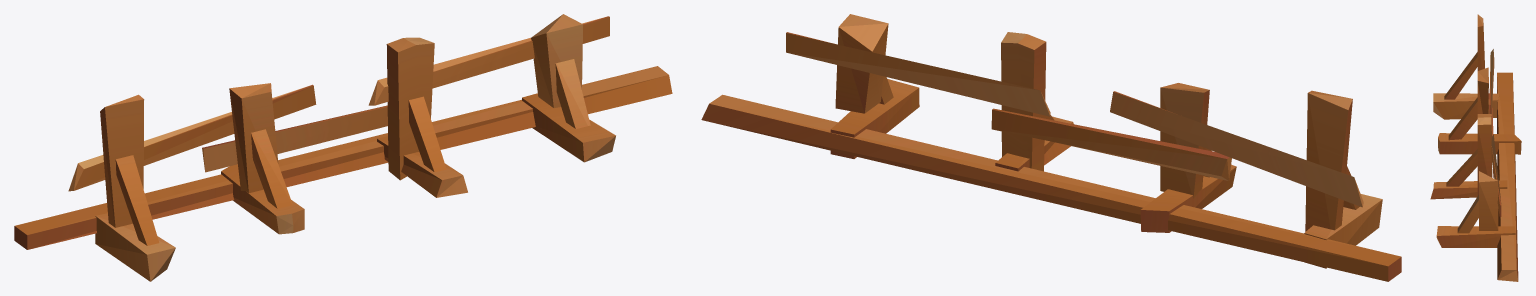
Rendered from fence001.gltf.
The picture shows the model from 3 angles, left to right: view 1: azimuth 30°, elevation 25°; view 2: azimuth 150°, elevation 25°; view 3: azimuth 270°, elevation 25°; orthographic projection. The views are drawn at different scales.
Visible parts, largest first — view 1: node_Manmade07_2_-17566; view 2: node_Manmade07_2_-17566; view 3: node_Manmade07_2_-17566.
Boxes of the visible parts, x1=… form: node_Manmade07_2_-17566: x1=14, y1=14, x2=672, y2=281; node_Manmade07_2_-17566: x1=701, y1=14, x2=1401, y2=281; node_Manmade07_2_-17566: x1=1430, y1=14, x2=1521, y2=281.
Size of what is drawn, in the model's own units: 2.95 by 0.6549 by 0.5711.
1 material, 1 textured.
